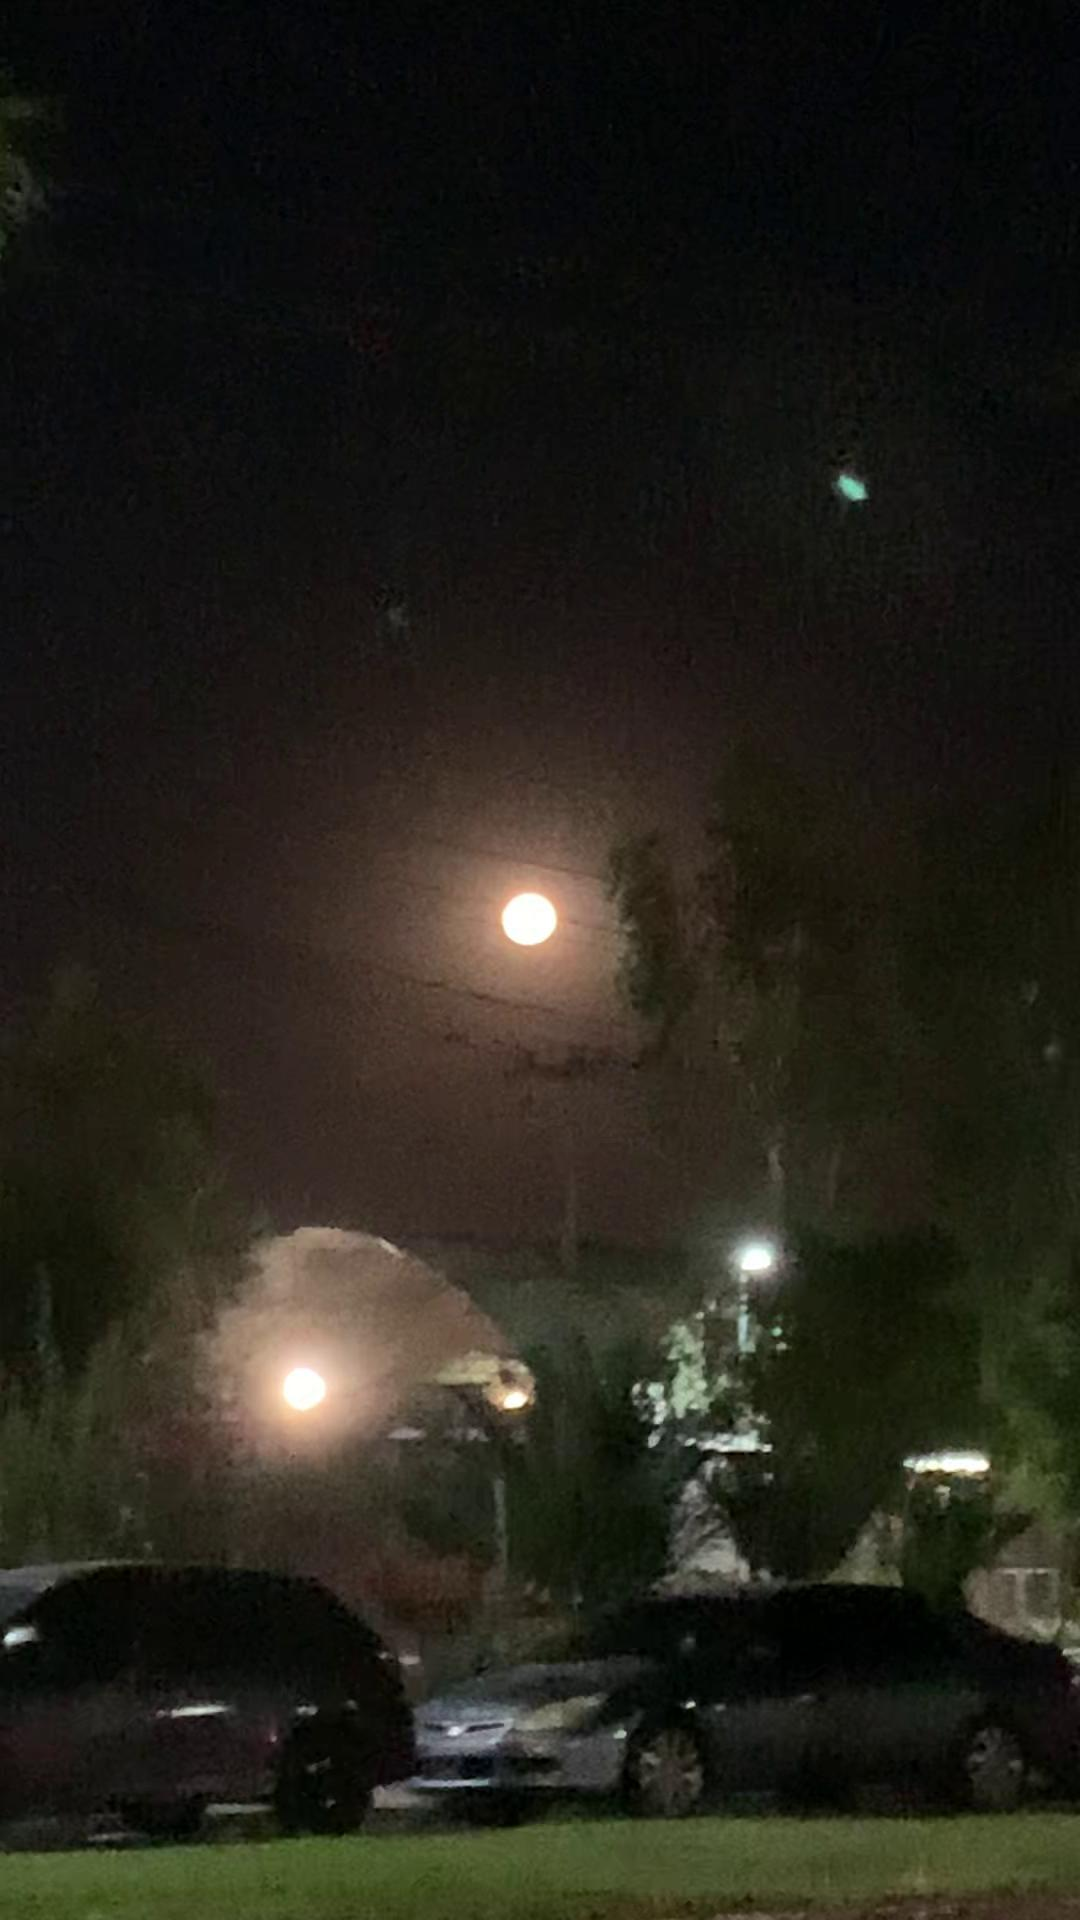moon: (498, 878, 569, 950)
